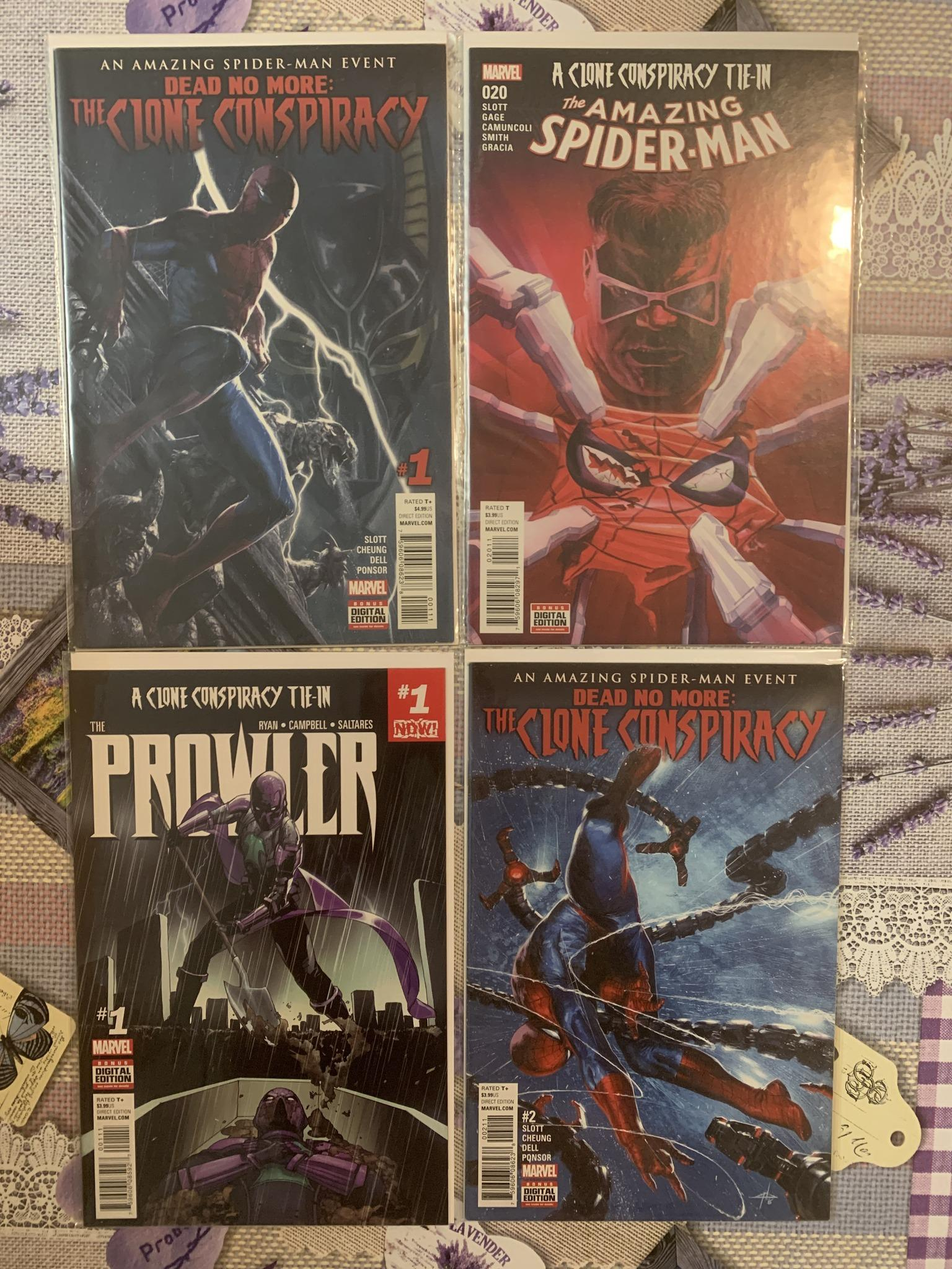comic: (51, 25, 465, 655), (466, 33, 858, 644), (70, 652, 451, 1226), (464, 648, 842, 1222)
